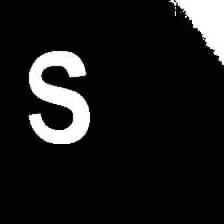LTR_S: (18, 46, 95, 147)
